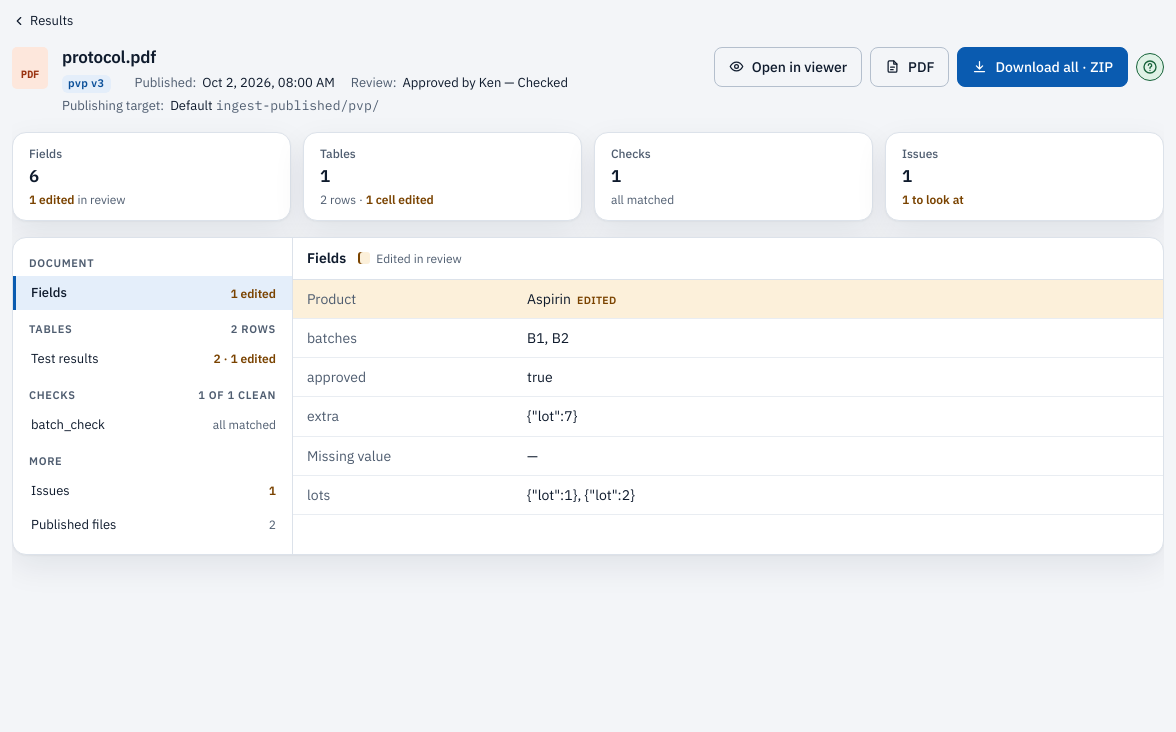
Test case: ResultDetailView › filters a table's rows
Click the button "Test results 2 · 1 edited". click: {"x": 65, "y": 358}
box: [13,342,292,376]
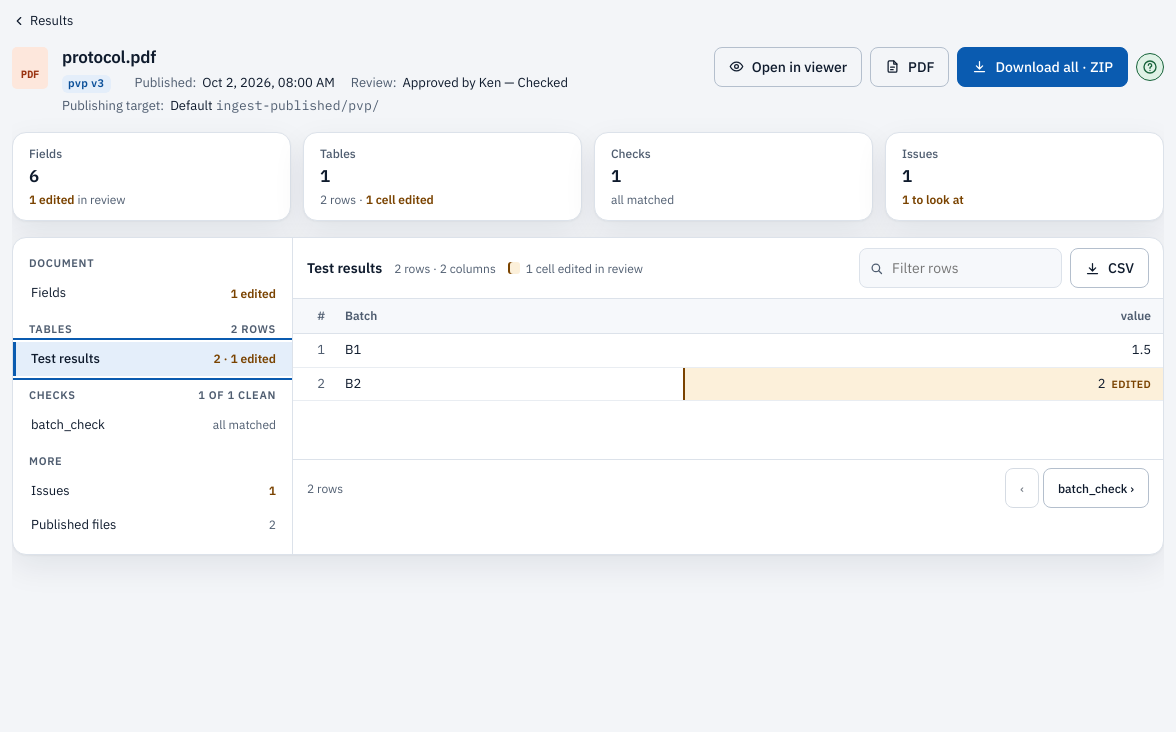
Type "b2" into the search field labelled "Filter rows". click: {"x": 961, "y": 268}
box: [859,248,1062,288]
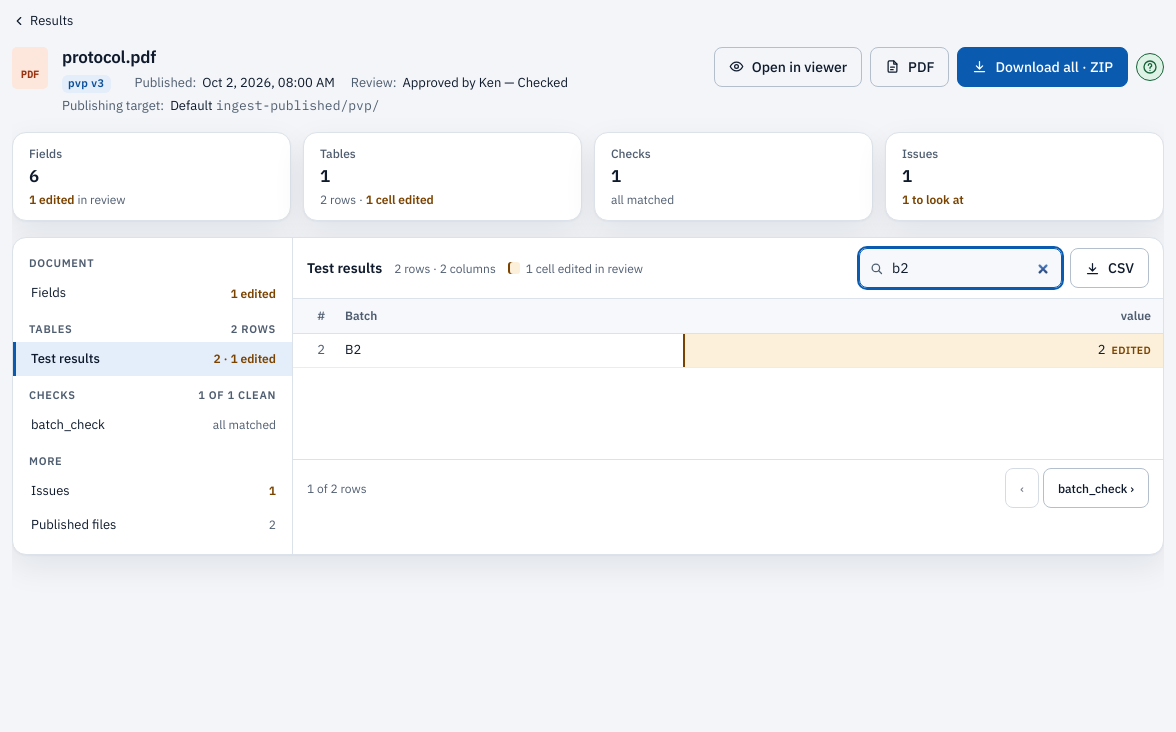
Expected: the text "B2" is shown, [333,334,683,368]
Expected: the number of rows is 2, [293,299,1163,334]; [293,334,1163,368]
Expected: the element "Test results" shows "1 of 2 rows", [307,481,366,496]
